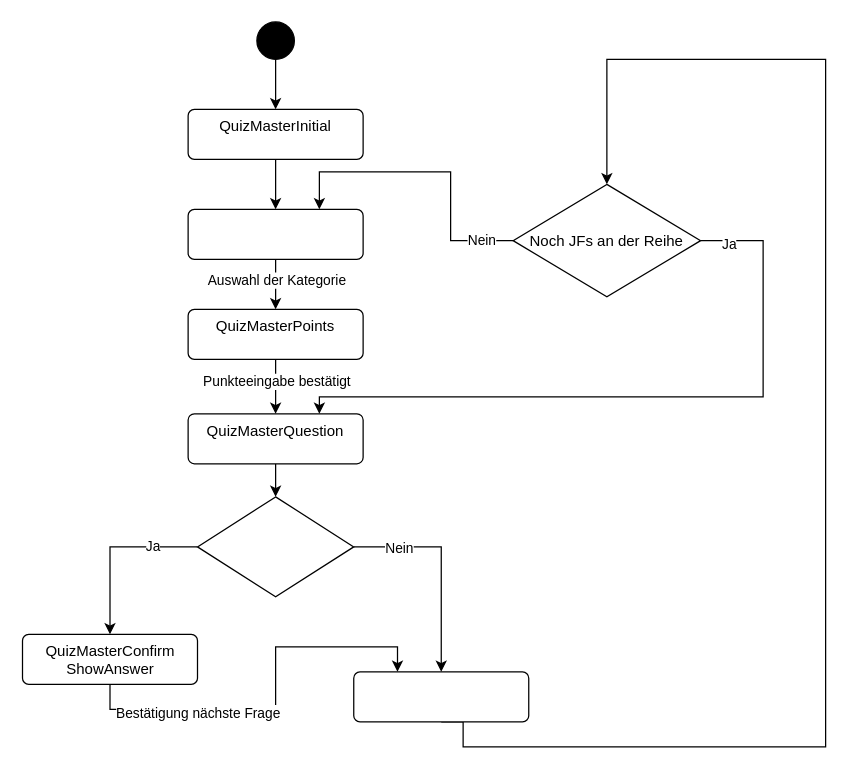
Image size: 858x779. Some labels were removed from this diagram. The centre of each missing label's shape, as x and y in pixels:
Antwort anzeigen: (275,546)
QuizMaster CategorySelection: (275,233)
QuizMasterConfirm NextQuestion: (440,696)
